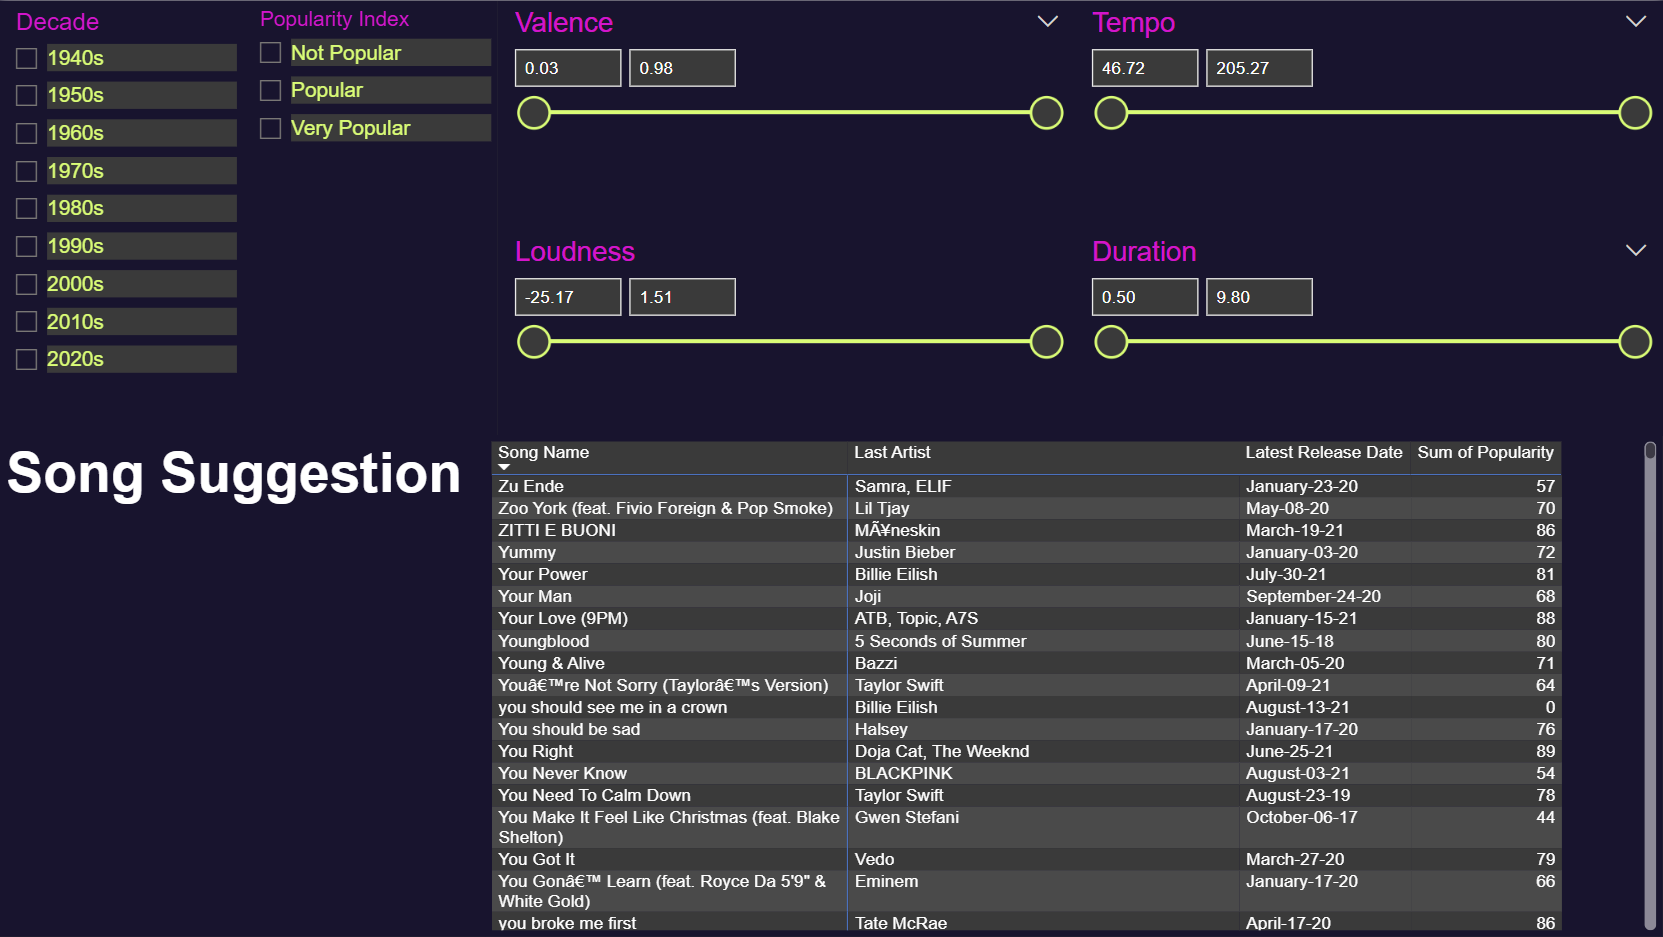

This screenshot's page, from the dashboard's own definition file:
{"tool":"powerbi","page":{"name":"Page 1","canvas":[1280,720],"ordinal":0},"visuals":[{"type":"slicer","fields":{"Values":["spotify_dataset (3).Decade "]},"box":[0,0,187.5,333.8],"z":0},{"type":"slicer","fields":{"Values":["spotify_dataset (3).Valence"]},"box":[383.8,0,443.8,176.2],"z":1000},{"type":"pivotTable","fields":{"Rows":["spotify_dataset (3).Song Name"],"Values":["spotify_dataset (3).Artist","spotify_dataset (3).Release Date","spotify_dataset (3).Popularity"]},"box":[373.8,333.8,906.2,386.2],"z":2000},{"type":"slicer","fields":{"Values":["spotify_dataset (3).Popularity Index"]},"box":[187.5,0,196.2,333.8],"z":3000},{"type":"textbox","box":[0,333.8,373.8,386.2],"z":4000},{"type":"slicer","fields":{"Values":["spotify_dataset (3).Tempo"]},"box":[827.5,0,452.5,176.2],"z":5000},{"type":"slicer","fields":{"Values":["spotify_dataset (3).Loudness"]},"box":[383.8,176.2,443.8,157.5],"z":6000},{"type":"slicer","fields":{"Values":["spotify_dataset (3).Duration "]},"box":[827.5,176.2,452.5,157.5],"z":7000}]}

Visuals, with their boxes in screenshot pixels (x1, y1, x2, y2), scaled from the page's 1280x720 canvas onto the 1663x937 screenshot:
slicer - spotify_dataset (3).Decade : [0, 0, 244, 434]
slicer - spotify_dataset (3).Valence: [499, 0, 1075, 229]
pivotTable - spotify_dataset (3).Song Name x spotify_dataset (3).Artist: [486, 434, 1662, 936]
slicer - spotify_dataset (3).Popularity Index: [244, 0, 499, 434]
textbox: [0, 434, 486, 936]
slicer - spotify_dataset (3).Tempo: [1075, 0, 1662, 229]
slicer - spotify_dataset (3).Loudness: [499, 229, 1075, 434]
slicer - spotify_dataset (3).Duration : [1075, 229, 1662, 434]
